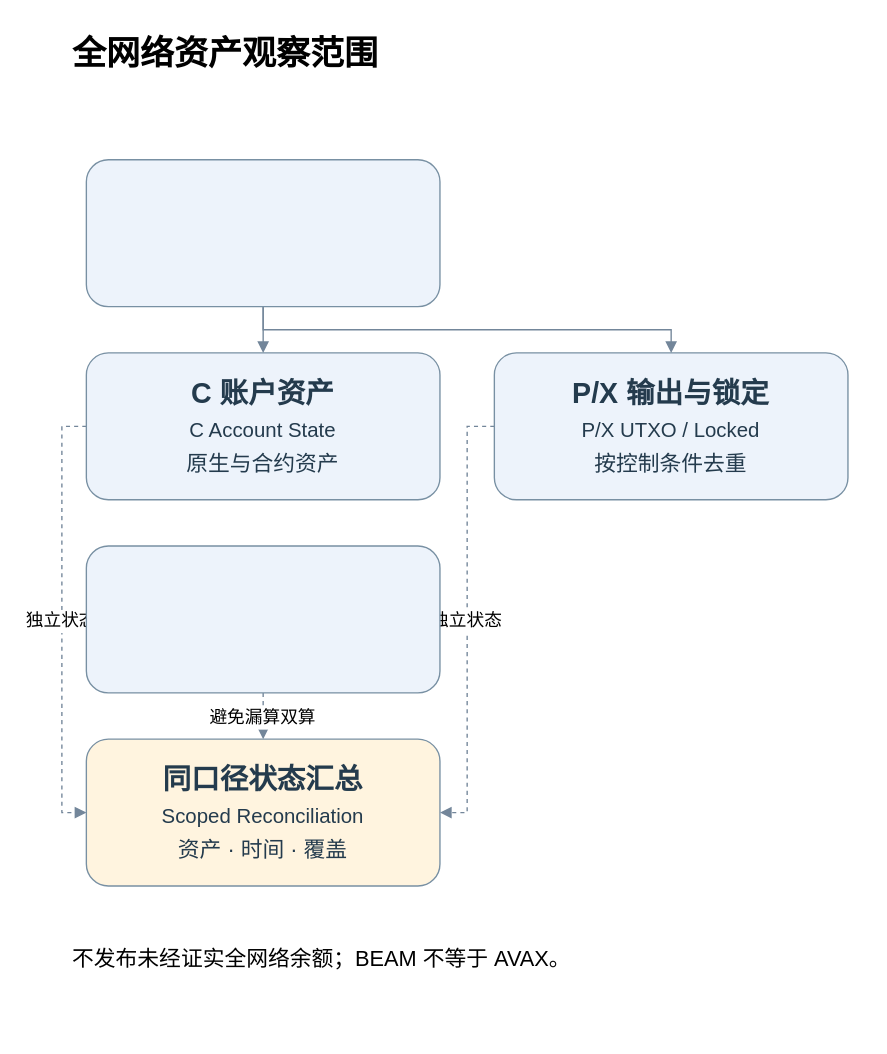
Image size: 887x1054. Some labels were removed from this diagram. The shapes that lost their labels are listed below. From the top down, each one's box as (x1, y1, x2, y2) in pixels, then its label:
(85, 158, 440, 307): 控制范围证据 Control / Attribution 不是单一 0x 字符串
(85, 545, 440, 693): 在途与其他表示 In-flight / Wrapped 经济映射另查
